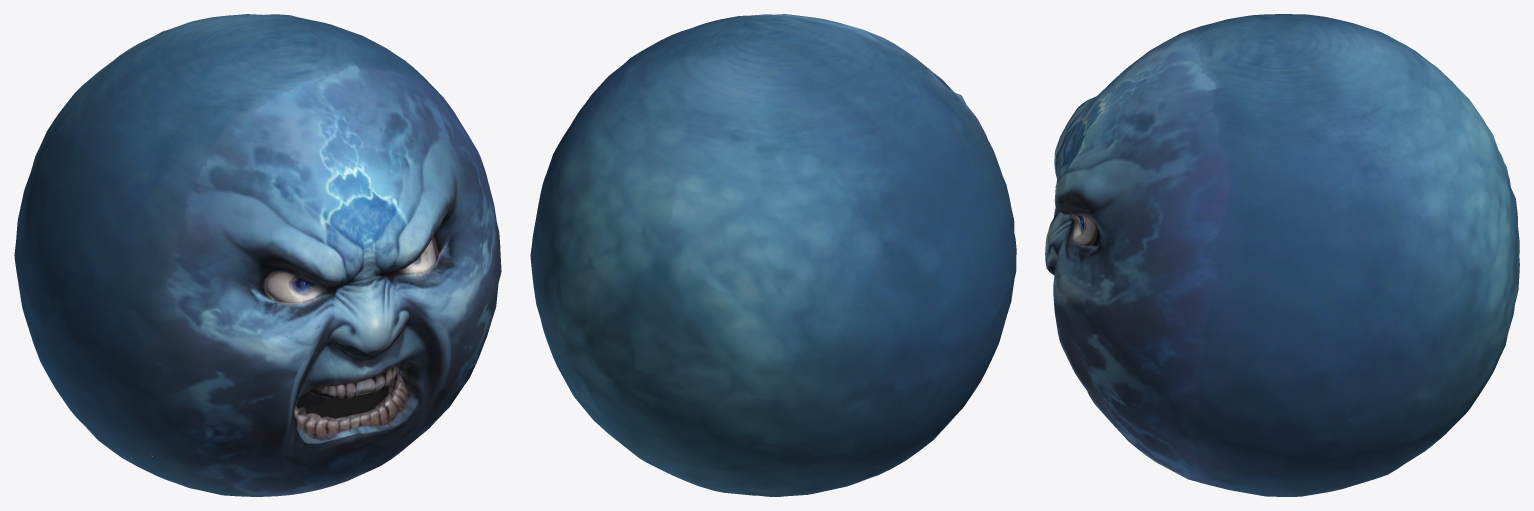
Rendered from monster_48.glb.
3 renders of one model, left to right at view 1: azimuth 30°, elevation 25°; view 2: azimuth 150°, elevation 25°; view 3: azimuth 270°, elevation 25°, orthographic.
Visible parts, largest first — view 1: Mystic_cloud_sphere_0710171202_texture; view 2: Mystic_cloud_sphere_0710171202_texture; view 3: Mystic_cloud_sphere_0710171202_texture.
Part boxes in pixels (x1,y1,x2,y2): Mystic_cloud_sphere_0710171202_texture: (14,14,501,496); Mystic_cloud_sphere_0710171202_texture: (530,14,1016,496); Mystic_cloud_sphere_0710171202_texture: (1045,14,1519,496).
Size of the model in its own units: 2 by 2 by 2.
1 material, 1 textured.
